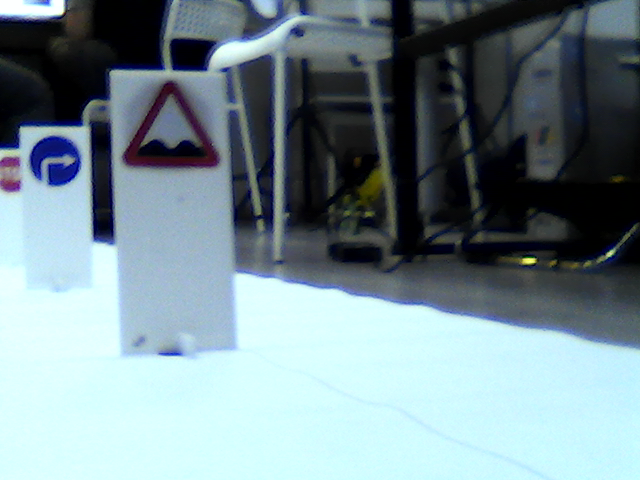Nerov: (121, 80, 221, 173)
Right: (27, 134, 81, 189)
